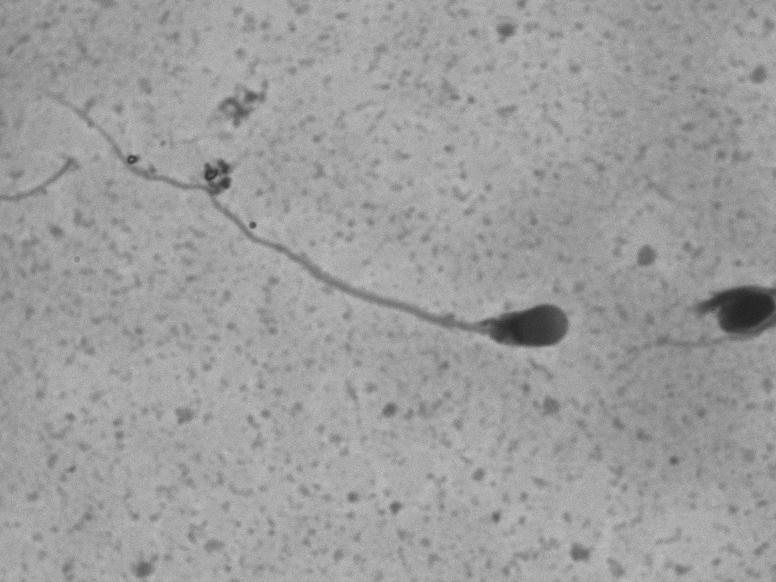Abnormal: (32, 84, 581, 359)
